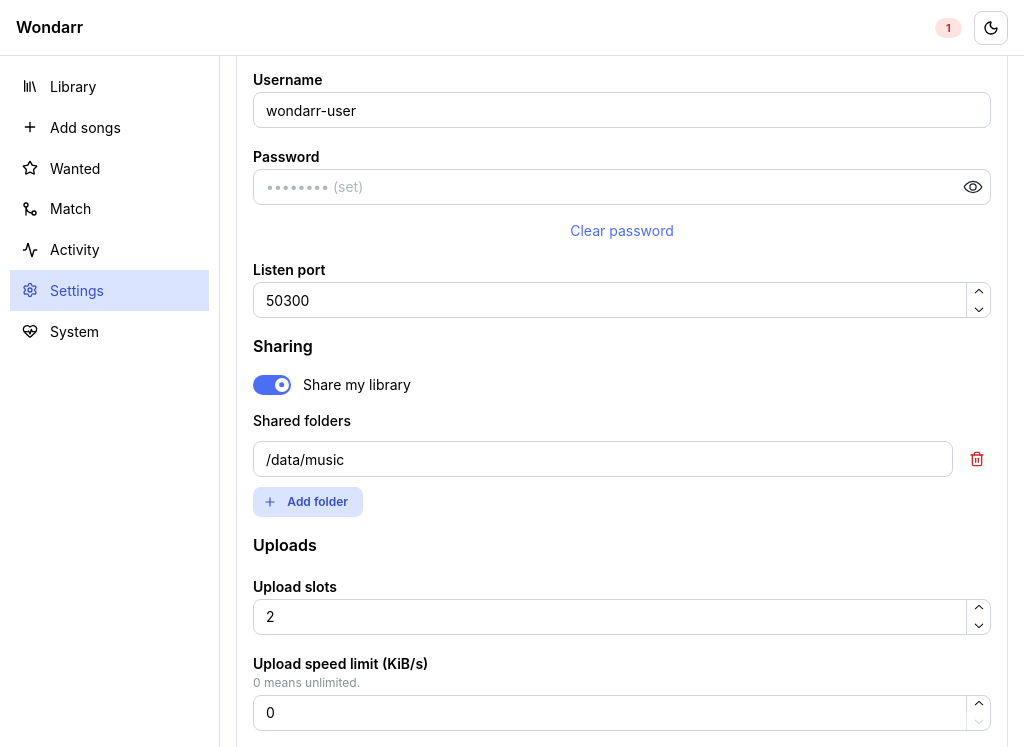
Test: SoulseekSettingsPage › warns when sharing is turned off
(page scrolled)
Expected: the field showing "wondarr-user" is shown, [253, 92, 991, 128]
Expected: the text "often ban peers who share nothing" is not shown
Click the switch labelled "Share my library" at (332, 385), box [253, 375, 411, 395]
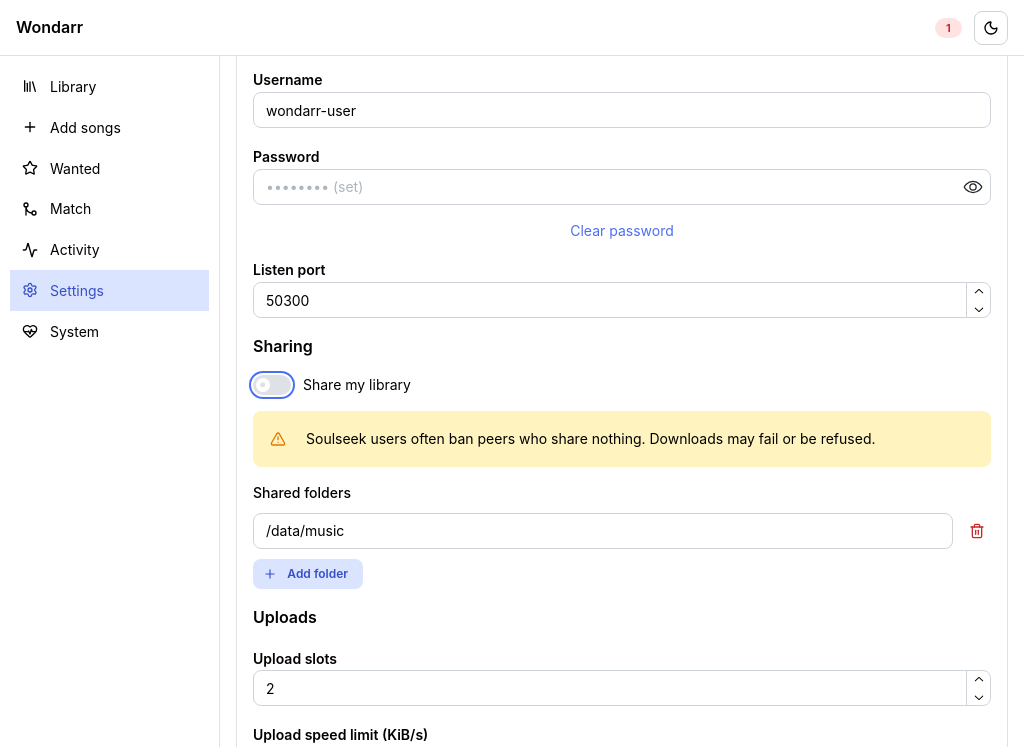
Now the text "often ban peers who share nothing" is shown, box [306, 430, 876, 447]
